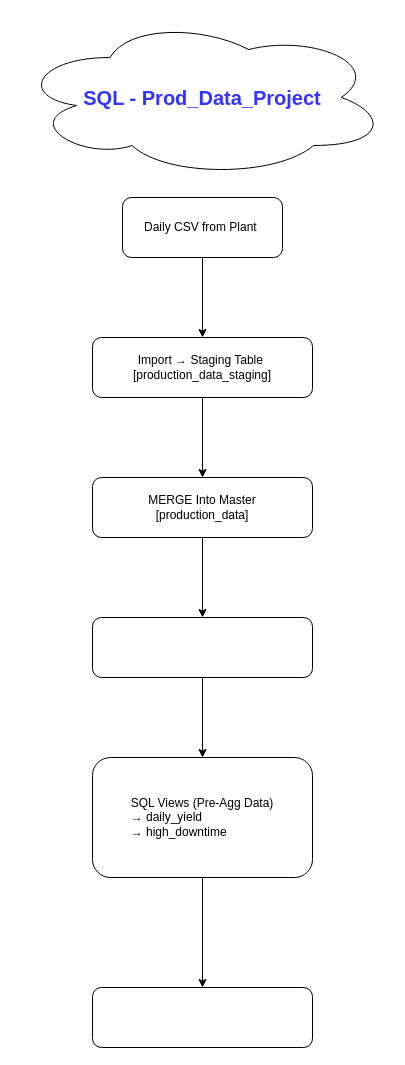
Image size: 405x1065. Some labels were removed from this diagram. Each missing label, with the centre of its shape:
"Log Merged Rows → [merge_log]" belongs at (x=202, y=647).
"Power BI Dashboard KPI cards, Charts, Table" belongs at (x=202, y=1017).
